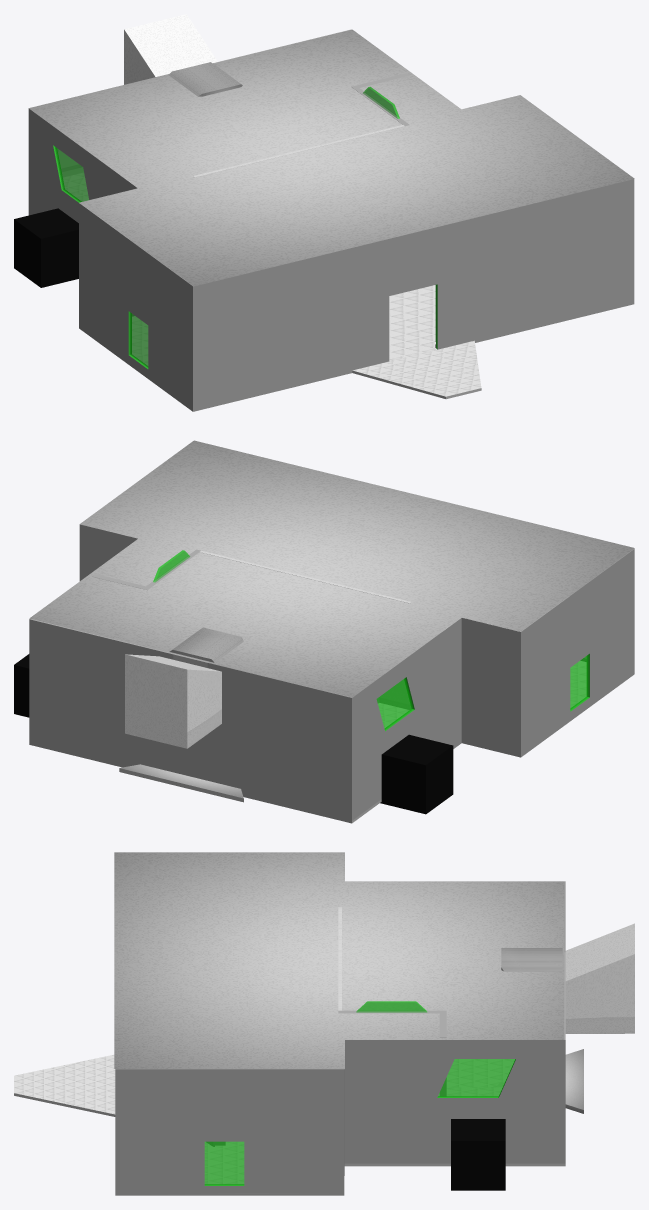
Rendered from SM_Level_2_1.1.fbx.
3 views of the same model, one above another, from view 1: azimuth 30°, elevation 25°; view 2: azimuth 150°, elevation 25°; view 3: azimuth 270°, elevation 25° (orthographic).
Visible parts, largest first — view 1: polySurface197, polySurface163, polySurface158, polySurface160, polySurface156, polySurface185, polySurface165, polySurface164; view 2: polySurface197, polySurface163, polySurface160, polySurface158, polySurface149, polySurface156, polySurface165, polySurface185, polySurface153, polySurface159, polySurface164; view 3: polySurface197, polySurface163, polySurface160, polySurface159, polySurface166, polySurface178, polySurface156, polySurface149, polySurface185, polySurface177, polySurface153.
Boxes of the visible parts, <box> form: polySurface197: <box>29,29,634,286</box>; polySurface163: <box>28,29,634,411</box>; polySurface158: <box>14,208,78,287</box>; polySurface160: <box>124,14,217,84</box>; polySurface156: <box>169,62,242,96</box>; polySurface185: <box>192,73,409,177</box>; polySurface165: <box>55,147,88,201</box>; polySurface164: <box>130,312,148,367</box>; polySurface197: <box>29,440,634,697</box>; polySurface163: <box>29,524,634,823</box>; polySurface160: <box>125,654,221,748</box>; polySurface158: <box>380,734,453,814</box>; polySurface149: <box>119,764,243,802</box>; polySurface156: <box>169,627,243,662</box>; polySurface165: <box>376,678,412,729</box>; polySurface185: <box>92,549,411,702</box>; polySurface153: <box>378,679,410,727</box>; polySurface159: <box>14,654,29,717</box>; polySurface164: <box>570,655,587,709</box>; polySurface197: <box>114,852,564,1068</box>; polySurface163: <box>14,881,565,1195</box>; polySurface160: <box>565,923,634,1033</box>; polySurface159: <box>451,1119,505,1190</box>; polySurface166: <box>438,1059,515,1096</box>; polySurface178: <box>204,1141,244,1184</box>; polySurface156: <box>501,948,562,971</box>; polySurface149: <box>565,1049,583,1113</box>; polySurface185: <box>338,907,446,1095</box>; polySurface177: <box>356,1001,426,1012</box>; polySurface153: <box>438,1087,501,1095</box>.
Size of the model in its own units: 134 by 43.37 by 162.
Materials: 9 (4 with a texture image).
